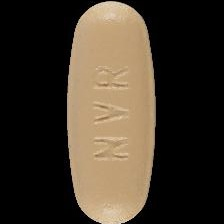54868-5804: (0, 0, 224, 224)
